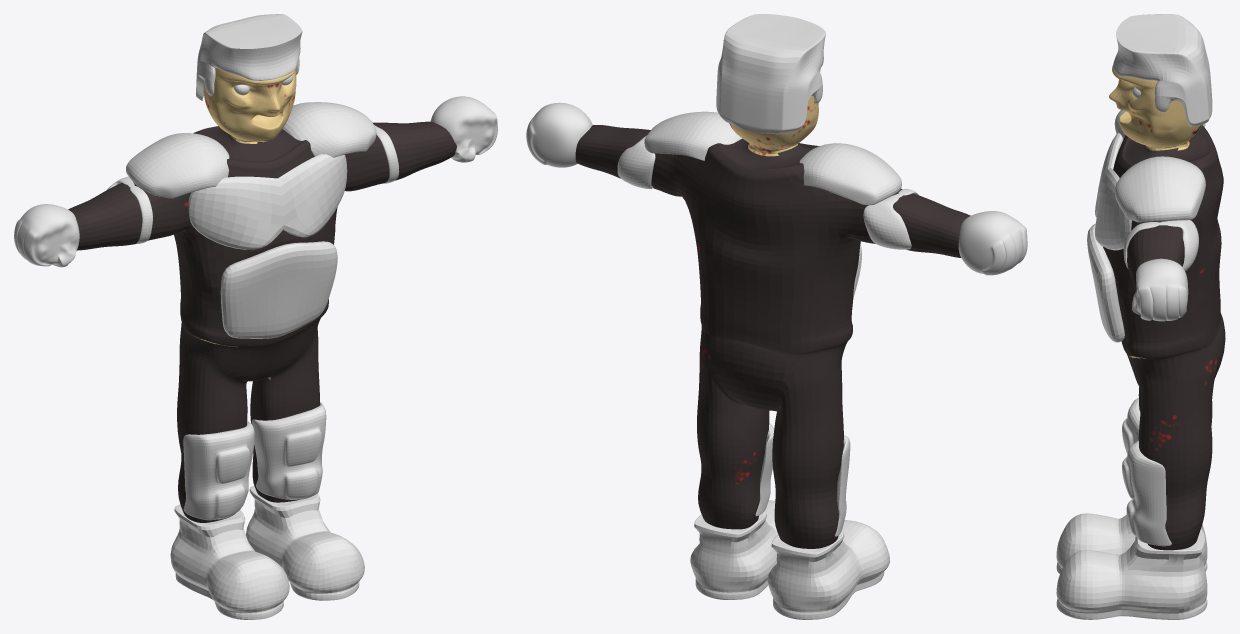
File: newHead.fbx
The picture shows the model from 3 angles, left to right: view 1: azimuth 30°, elevation 25°; view 2: azimuth 150°, elevation 25°; view 3: azimuth 270°, elevation 25°; orthographic projection. The views are drawn at different scales.
Parts seen in each view (by area): view 1: Plane, Plane.004, Plane.005, Plane.006, Plane.007, Plane.003, Plane.002, Plane.008, Plane.011, Plane.010, Plane.009; view 2: Plane, Plane.008, Plane.003, Plane.007, Plane.002, Plane.011, Plane.009, Plane.010, Plane.004; view 3: Plane, Plane.002, Plane.008, Plane.007, Plane.004, Plane.010, Plane.003, Plane.005, Plane.006, Plane.009.
Part boxes in pixels (<box>): Plane: <box>68,67,456,522</box>; Plane.004: <box>183,402,326,520</box>; Plane.005: <box>188,154,347,249</box>; Plane.006: <box>220,241,337,338</box>; Plane.007: <box>126,102,376,198</box>; Plane.003: <box>170,504,289,619</box>; Plane.002: <box>246,485,364,600</box>; Plane.008: <box>196,14,302,100</box>; Plane.011: <box>14,204,79,267</box>; Plane.010: <box>430,96,497,162</box>; Plane.009: <box>107,125,399,244</box>; Plane: <box>575,68,970,548</box>; Plane.008: <box>716,14,825,134</box>; Plane.003: <box>767,520,889,619</box>; Plane.007: <box>644,111,901,205</box>; Plane.002: <box>690,500,778,599</box>; Plane.011: <box>958,211,1027,275</box>; Plane.009: <box>617,135,919,249</box>; Plane.010: <box>526,102,592,167</box>; Plane.004: <box>755,423,850,536</box>; Plane: <box>1103,65,1225,550</box>; Plane.002: <box>1056,529,1207,619</box>; Plane.008: <box>1113,14,1212,126</box>; Plane.007: <box>1114,110,1205,222</box>; Plane.004: <box>1122,398,1171,546</box>; Plane.010: <box>1132,258,1188,321</box>; Plane.003: <box>1056,513,1207,573</box>; Plane.005: <box>1095,133,1131,250</box>; Plane.006: <box>1087,223,1124,342</box>; Plane.009: <box>1123,220,1198,271</box>.
Size of the model in its own units: 406 by 444 by 123.
